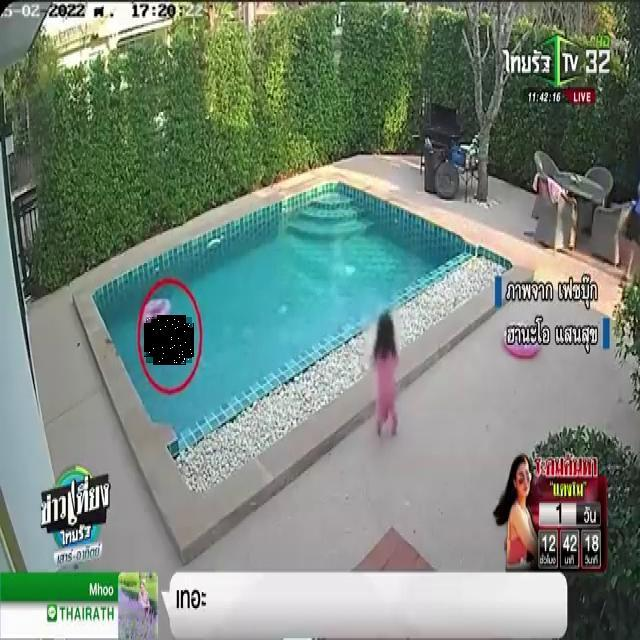Out of Water: (146, 317, 192, 363)
